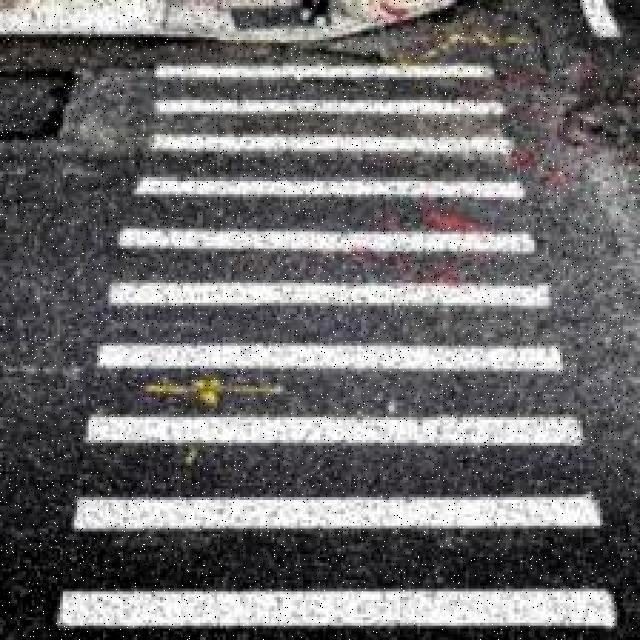crosswalk: (11, 32, 630, 639)
